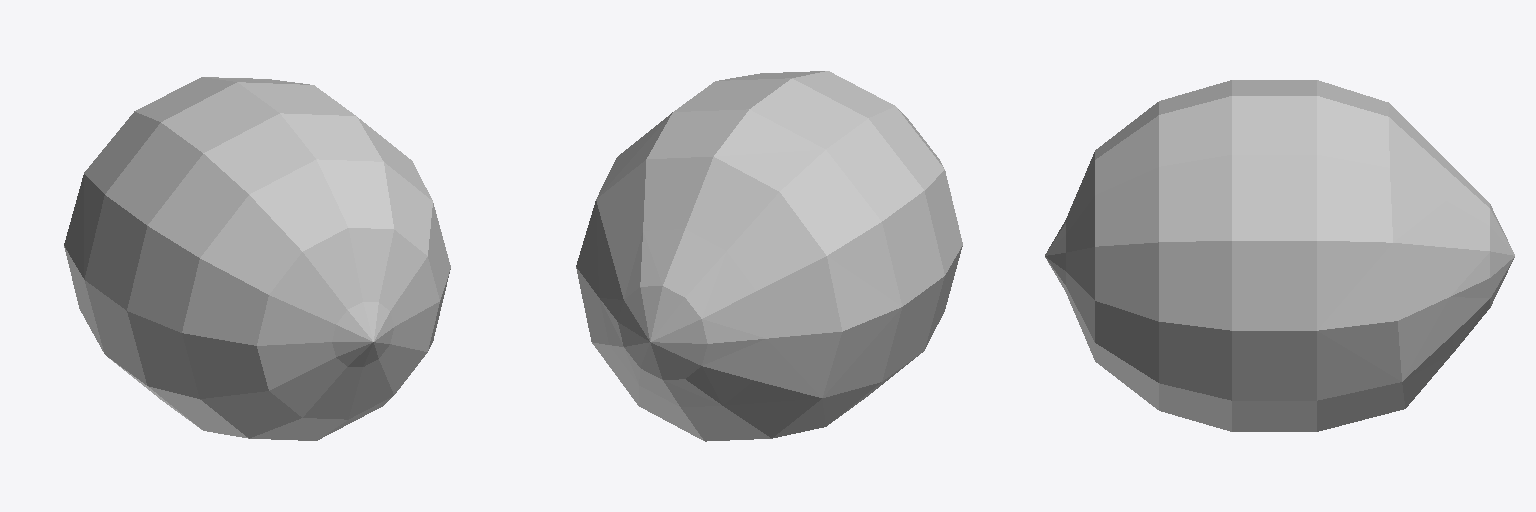
File: Lemon_A__2.obj
The picture shows the model from 3 angles: view 1: azimuth 30°, elevation 25°; view 2: azimuth 150°, elevation 25°; view 3: azimuth 270°, elevation 25°; orthographic projection.
Visible parts, largest first — view 1: sphere1; view 2: sphere1; view 3: sphere1.
Part boxes in pixels (left/top/right/bottom): sphere1: left=64, top=77, right=450, bottom=440; sphere1: left=576, top=71, right=962, bottom=441; sphere1: left=1045, top=80, right=1514, bottom=431.
Bounding box in the file's own units: 1.63 × 1.63 × 2.17.